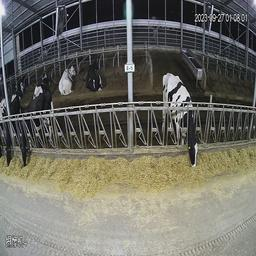cow: (160, 72, 198, 170), (20, 91, 53, 163), (5, 96, 20, 164), (84, 60, 104, 94), (58, 64, 77, 95), (33, 74, 50, 102)
